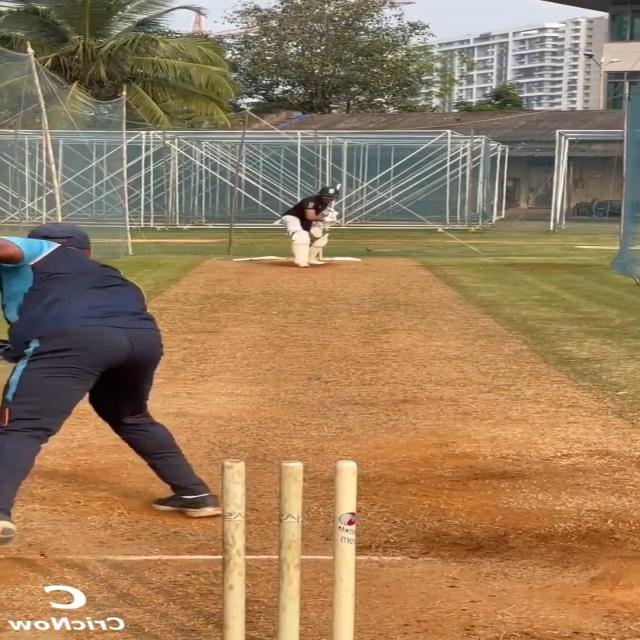ball: (366, 248, 372, 252)
stump: (214, 454, 362, 640)
